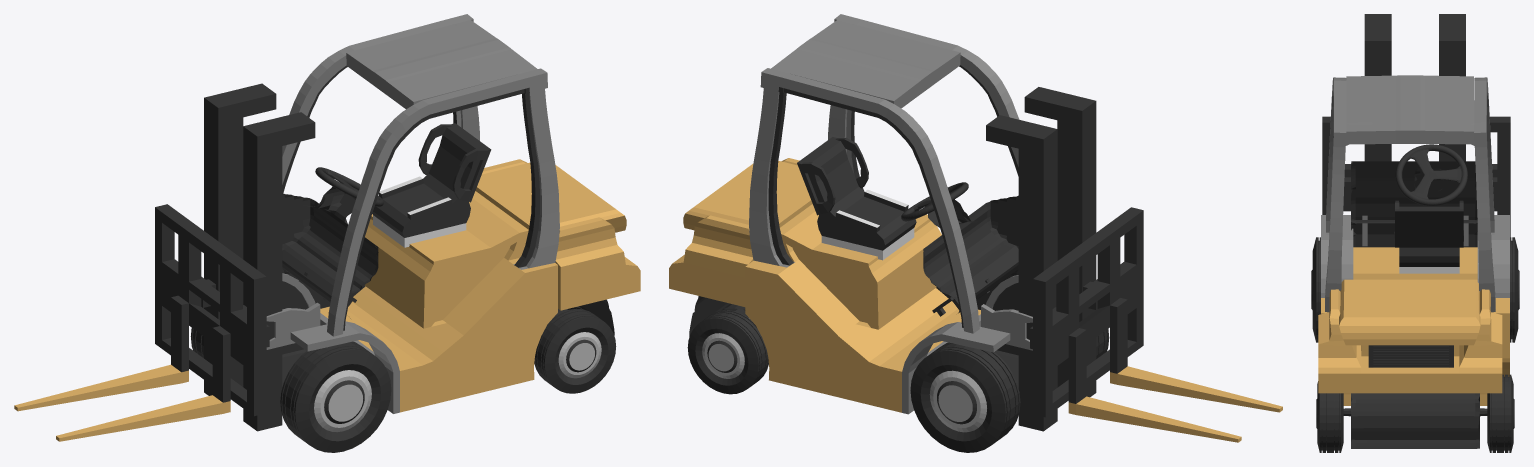
File: forklift.fbx
3 views of the same model, side by side, from view 1: azimuth 30°, elevation 25°; view 2: azimuth 150°, elevation 25°; view 3: azimuth 270°, elevation 25° (orthographic). The views are drawn at different scales.
Visible parts, largest first — view 1: forklif; view 2: forklif; view 3: forklif.
Part boxes in pixels (bbox=[...]): forklif: bbox=[14, 14, 640, 452]; forklif: bbox=[669, 14, 1282, 452]; forklif: bbox=[1311, 14, 1519, 452].
Bounding box in the file's own units: 254 × 141 × 87.09.
